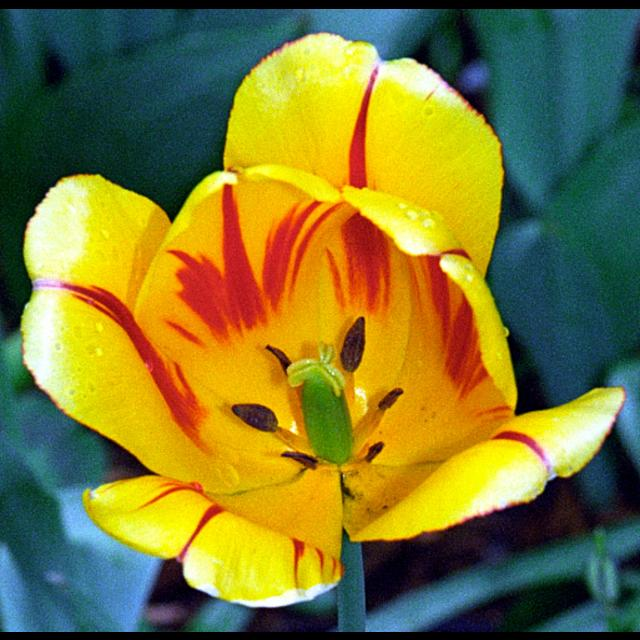Flower: (38, 49, 530, 569)
